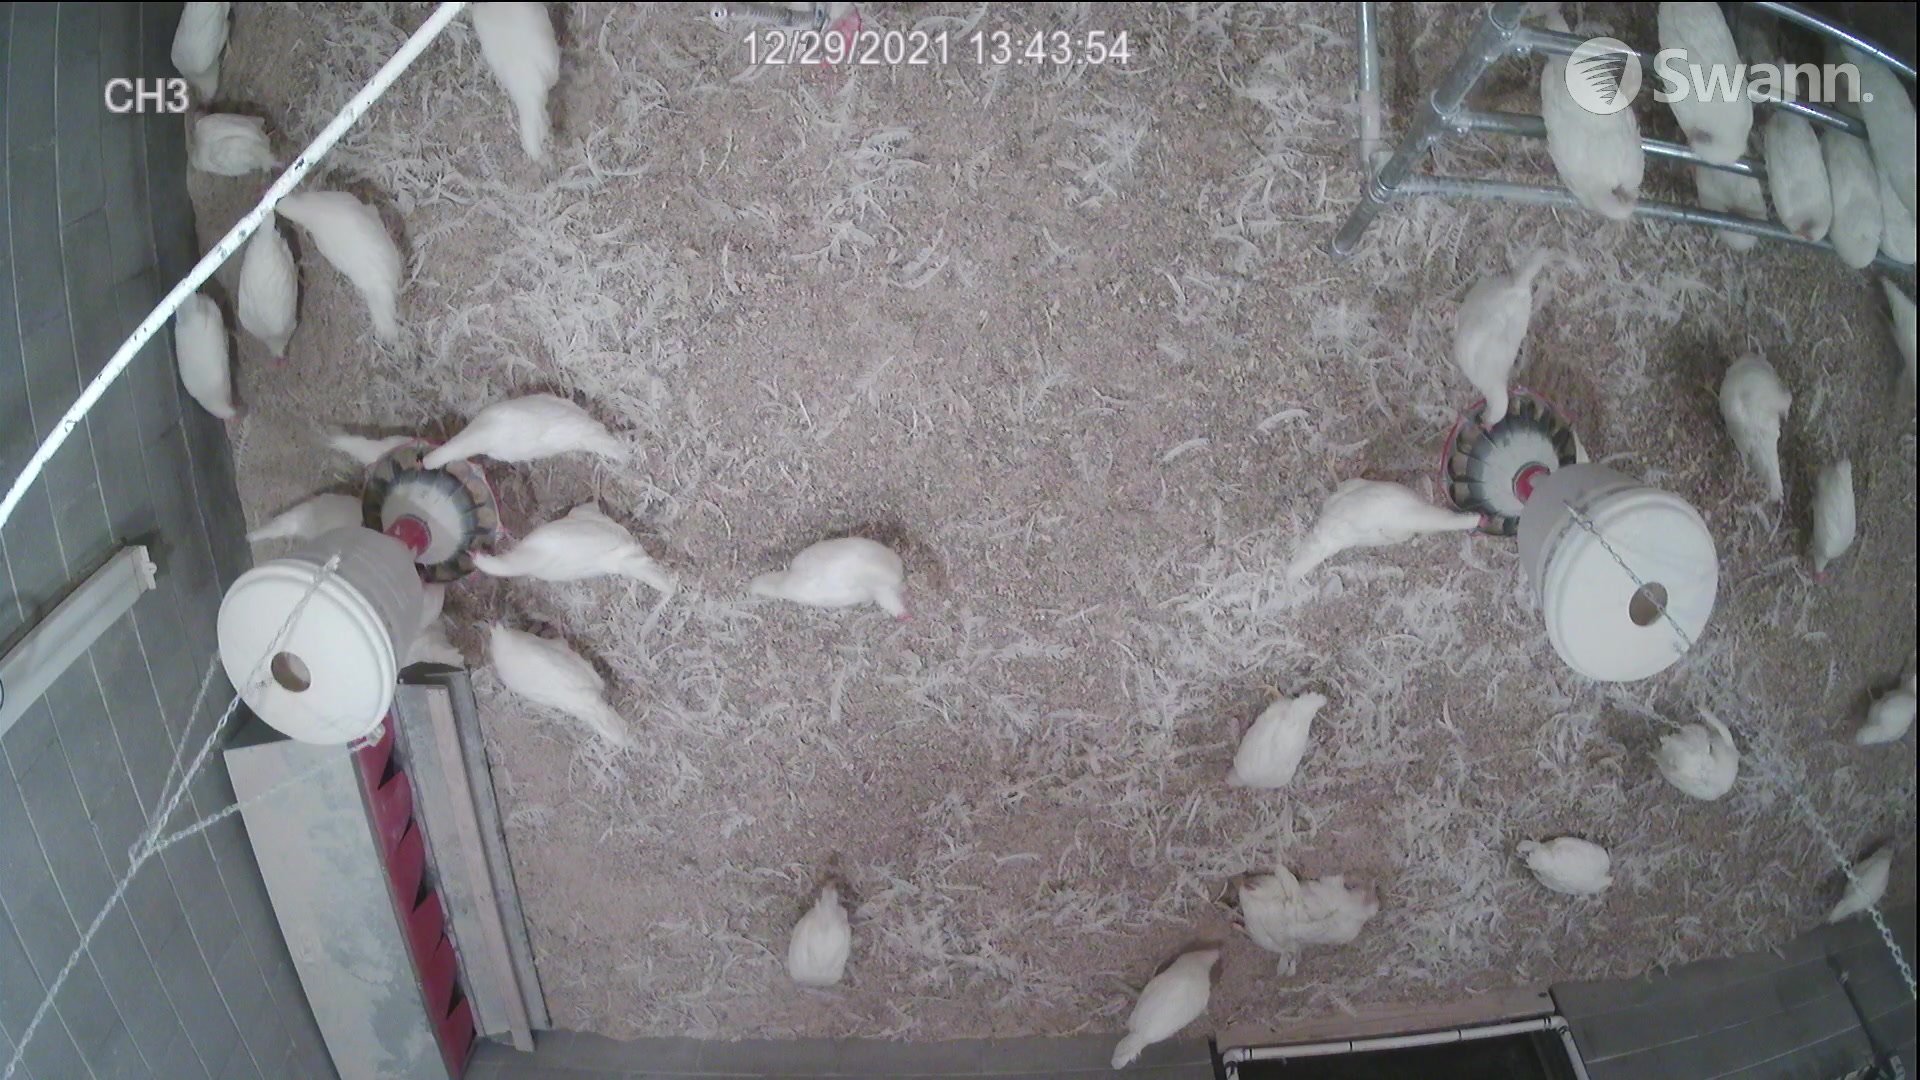Dust Bathing: (1280, 861, 1390, 960)
Feeding: (411, 375, 641, 480), (1283, 465, 1495, 575), (1444, 244, 1553, 434), (454, 502, 666, 589)
Foraging: (281, 175, 411, 342), (1101, 931, 1233, 1072), (165, 273, 266, 422), (1215, 679, 1335, 799), (236, 204, 313, 367), (785, 877, 861, 997), (186, 105, 276, 179)
Perching: (1534, 22, 1639, 214), (1634, 4, 1754, 165), (1837, 33, 1920, 218), (1759, 120, 1836, 244), (1808, 124, 1870, 272)
Preening: (1640, 712, 1759, 808), (1726, 353, 1797, 505)
